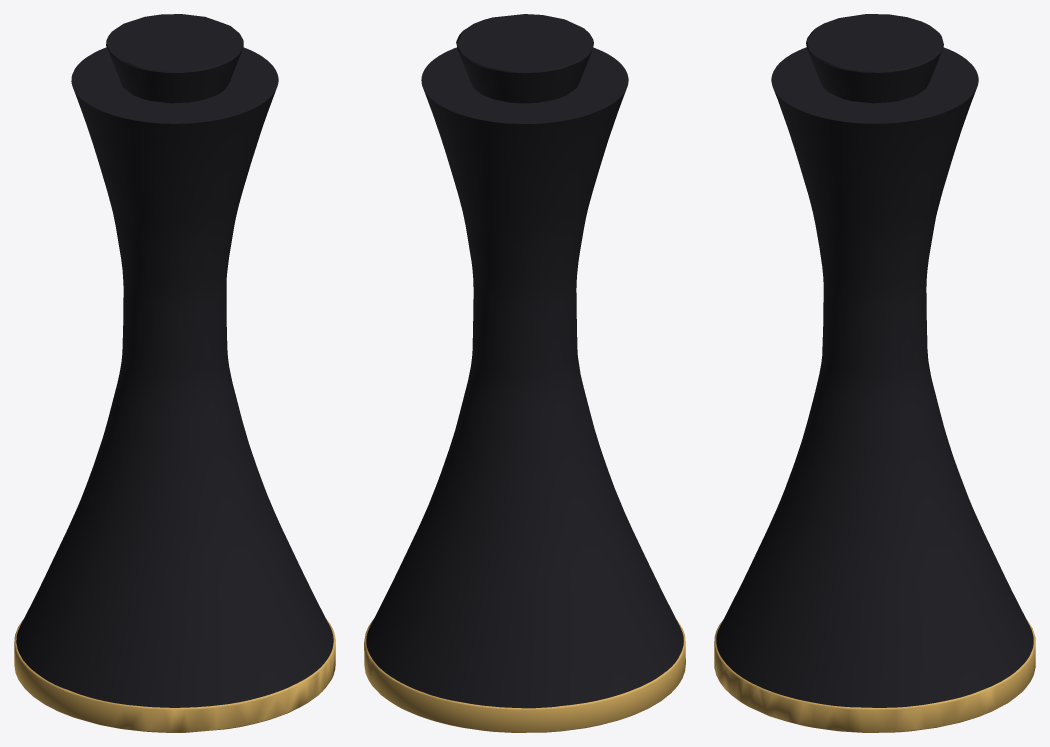
Rendered from queen-black.glb.
3 renders of one model, left to right at view 1: azimuth 30°, elevation 25°; view 2: azimuth 150°, elevation 25°; view 3: azimuth 270°, elevation 25°, orthographic.
Parts seen in each view (by area): view 1: 05_dama_telo_0, 05_dama_telo_1, 05_dama_podstavec; view 2: 05_dama_telo_0, 05_dama_telo_1, 05_dama_podstavec; view 3: 05_dama_telo_0, 05_dama_telo_1, 05_dama_podstavec.
Boxes of the visible parts, x1,y1,x2,y2 form: 05_dama_telo_0: [16, 47, 333, 707]; 05_dama_telo_1: [106, 14, 243, 103]; 05_dama_podstavec: [14, 619, 335, 732]; 05_dama_telo_0: [366, 47, 683, 708]; 05_dama_telo_1: [456, 14, 593, 103]; 05_dama_podstavec: [364, 619, 685, 732]; 05_dama_telo_0: [716, 47, 1033, 707]; 05_dama_telo_1: [806, 14, 943, 103]; 05_dama_podstavec: [714, 619, 1035, 732].
Size of the model in its own units: 0.725 by 1.55 by 0.725.
